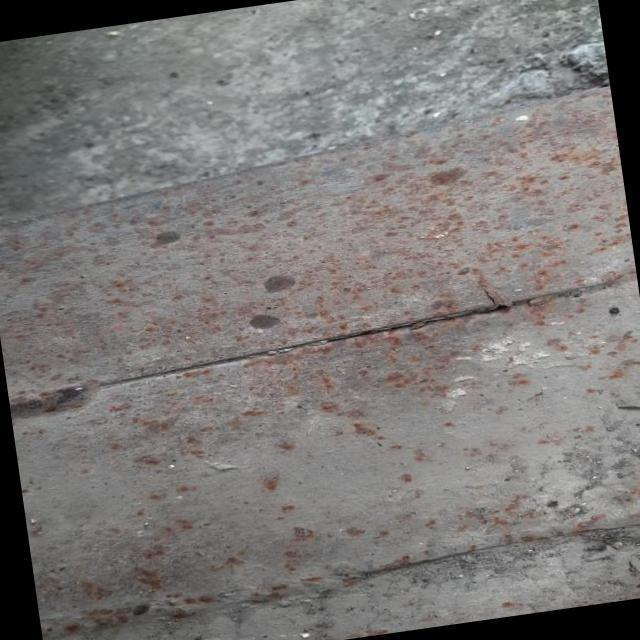defect: (298, 284, 527, 349)
